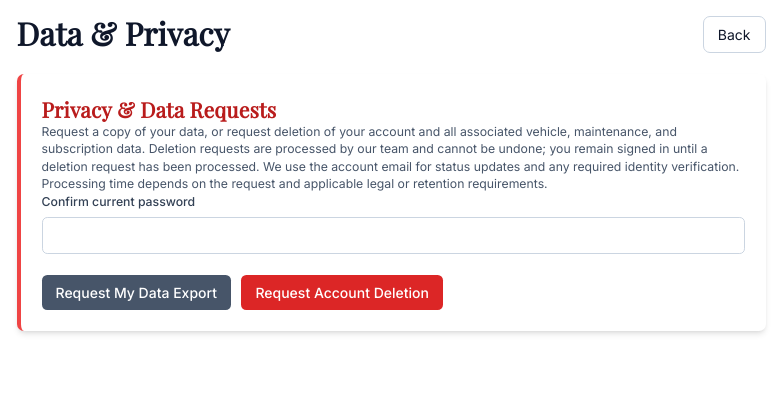
Test case: DataPrivacy › files a data export request without deleting the account
This screenshot has width=784, height=417.
Click the button "Request My Data Export" at [136, 292], box [42,275,231,310]
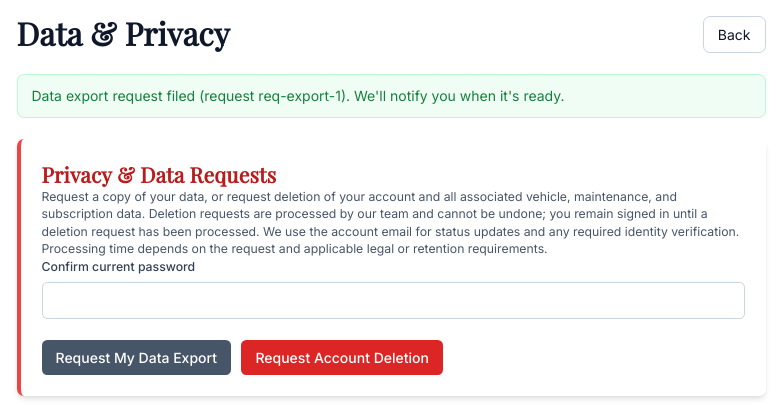
expect the text "Data export request filed" is shown: met, box [32,87,564,104]
